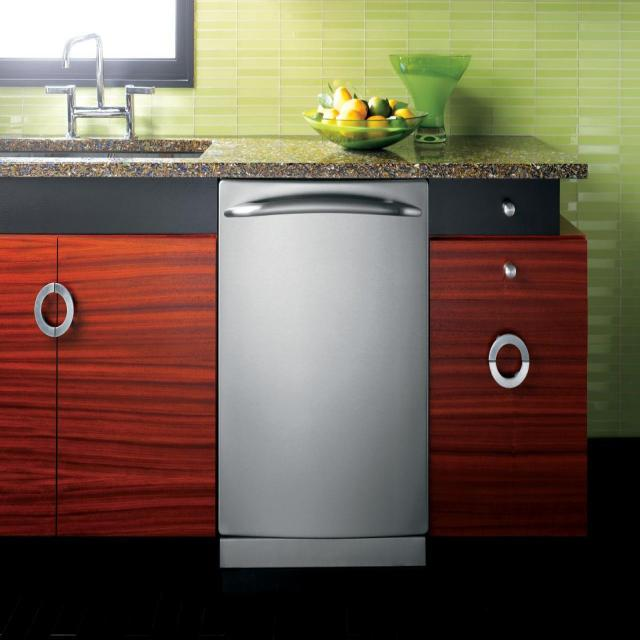dishwasher: (218, 169, 432, 567)
